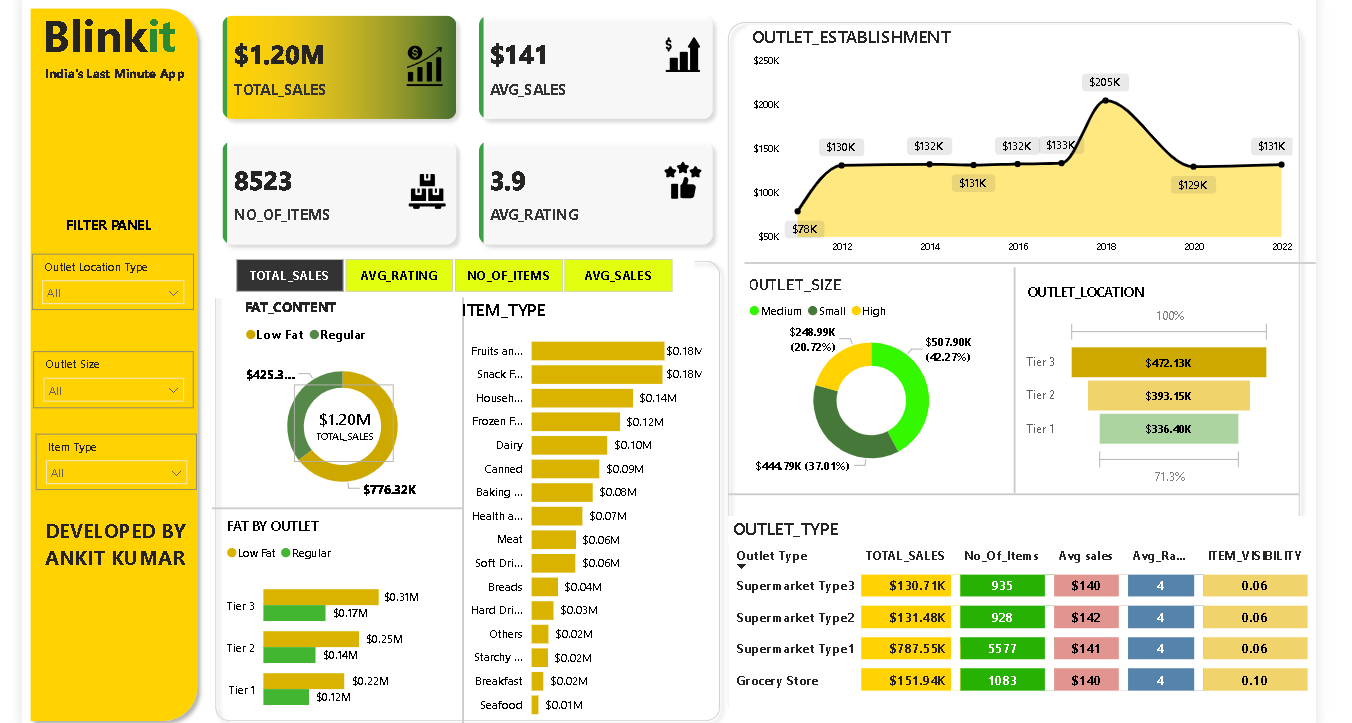

The page's visual inventory and layout, read from the dashboard file:
{"tool":"powerbi","page":{"name":"Page 1","canvas":[1400,800],"ordinal":0},"visuals":[{"type":"shape","box":[0,10.6,198.8,789.4],"z":0},{"type":"textbox","box":[11.9,10.6,164,111.1],"z":1000},{"type":"textbox","box":[14.1,75.3,174.1,125.9],"z":2000},{"type":"cardVisual","fields":{"Data":["BlinkIT Grocery Data.total_sales","BlinkIT Grocery Data.Avg sales","BlinkIT Grocery Data.No_Of_Items","BlinkIT Grocery Data.Avg_Rating"]},"box":[199.7,10.6,564.8,283.1],"z":3000},{"type":"donutChart","title":"FAT_CONTENT","fields":{"Y":["BlinkIT Grocery Data.TOTAL_SALES"],"Category":["BlinkIT Grocery Data.Item Fat Content"]},"box":[237.1,333.2,220.6,229.6],"z":4000},{"type":"shape","box":[199.6,283.7,564.3,516.3],"z":5000},{"type":"slicer","fields":{"Values":["Metrics.Metrics"]},"box":[205.6,283.7,522.3,49.5],"z":6000},{"type":"cardVisual","fields":{"Data":["BlinkIT Grocery Data.TOTAL_SALES"]},"box":[289.7,421.7,118.6,94.5],"z":7000},{"type":"clusteredBarChart","title":"FAT BY OUTLET","fields":{"Y":["BlinkIT Grocery Data.TOTAL_SALES"],"Category":["BlinkIT Grocery Data.Outlet Location Type"],"Series":["BlinkIT Grocery Data.Item Fat Content"]},"box":[216.1,570.3,220.6,229.6],"z":8000},{"type":"shape","box":[205.6,552.3,271.7,18],"z":9000},{"type":"shape","box":[451.8,333.2,51,466.8],"z":10000},{"type":"barChart","title":"ITEM_TYPE","fields":{"Y":["BlinkIT Grocery Data.TOTAL_SALES"],"Category":["BlinkIT Grocery Data.Item Type"]},"box":[471.3,333.2,270.2,466.8],"z":11000},{"type":"shape","box":[755.5,25.4,637.2,774.5],"z":12000},{"type":"lineChart","title":"OUTLET_ESTABLISHMENT","fields":{"Category":["BlinkIT Grocery Data.Outlet Establishment Year"],"Y":["BlinkIT Grocery Data.TOTAL_SALES"]},"box":[785,37.5,595.8,256.6],"z":13000},{"type":"shape","box":[782,282.2,618.4,25.5],"z":14000},{"type":"donutChart","title":"OUTLET_SIZE","fields":{"Category":["BlinkIT Grocery Data.Outlet Size"],"Y":["BlinkIT Grocery Data.TOTAL_SALES"]},"box":[781.9,307.9,274.9,224.8],"z":15000},{"type":"funnel","title":"OUTLET_LOCATION ","fields":{"Y":["Sum(BlinkIT Grocery Data.Sales)"],"Category":["BlinkIT Grocery Data.Outlet Location Type"]},"box":[1082.3,316.7,274.7,225.1],"z":16000},{"type":"shape","box":[764.4,532.9,618.1,25.4],"z":17000},{"type":"shape","box":[938.6,300.1,270.9,244.2],"z":18000},{"type":"pivotTable","title":"OUTLET_TYPE","fields":{"Rows":["BlinkIT Grocery Data.Outlet Type"],"Values":["BlinkIT Grocery Data.TOTAL_SALES","BlinkIT Grocery Data.No_Of_Items","BlinkIT Grocery Data.Avg sales","BlinkIT Grocery Data.Avg_Rating","Avg(BlinkIT Grocery Data.Item Visibility)"]},"box":[764.4,569.8,635.9,230.2],"z":19000},{"type":"slicer","fields":{"Values":["BlinkIT Grocery Data.Outlet Location Type"]},"box":[11.4,286.2,175.5,61],"z":20000},{"type":"slicer","fields":{"Values":["BlinkIT Grocery Data.Outlet Size"]},"box":[12.3,390.4,174,61.6],"z":21000},{"type":"slicer","fields":{"Values":["BlinkIT Grocery Data.Item Type"]},"box":[14.6,480.2,174.6,60.9],"z":22000},{"type":"textbox","box":[11.8,240,163.5,34.1],"z":23000},{"type":"textbox","box":[14.6,566.1,172,82],"z":24000}]}

Visuals, with their boxes on the page's 1400x800 design canvas (x1, y1, x2, y2). These are canvas units, not pixel positions in the 1352x723 screenshot, which may show the page scaled, cropped or inside an application window:
shape: select_region(0, 11, 199, 800)
textbox: select_region(12, 11, 176, 122)
textbox: select_region(14, 75, 188, 201)
cardVisual - BlinkIT Grocery Data.total_sales x BlinkIT Grocery Data.Avg sales: select_region(200, 11, 764, 294)
"FAT_CONTENT" donutChart: select_region(237, 333, 458, 563)
shape: select_region(200, 284, 764, 800)
slicer - Metrics.Metrics: select_region(206, 284, 728, 333)
cardVisual - BlinkIT Grocery Data.TOTAL_SALES: select_region(290, 422, 408, 516)
"FAT BY OUTLET" clusteredBarChart: select_region(216, 570, 437, 800)
shape: select_region(206, 552, 477, 570)
shape: select_region(452, 333, 503, 800)
"ITEM_TYPE" barChart: select_region(471, 333, 742, 800)
shape: select_region(756, 25, 1393, 800)
"OUTLET_ESTABLISHMENT" lineChart: select_region(785, 38, 1381, 294)
shape: select_region(782, 282, 1400, 308)
"OUTLET_SIZE" donutChart: select_region(782, 308, 1057, 533)
"OUTLET_LOCATION " funnel: select_region(1082, 317, 1357, 542)
shape: select_region(764, 533, 1382, 558)
shape: select_region(939, 300, 1210, 544)
"OUTLET_TYPE" pivotTable: select_region(764, 570, 1400, 800)
slicer - BlinkIT Grocery Data.Outlet Location Type: select_region(11, 286, 187, 347)
slicer - BlinkIT Grocery Data.Outlet Size: select_region(12, 390, 186, 452)
slicer - BlinkIT Grocery Data.Item Type: select_region(15, 480, 189, 541)
textbox: select_region(12, 240, 175, 274)
textbox: select_region(15, 566, 187, 648)
